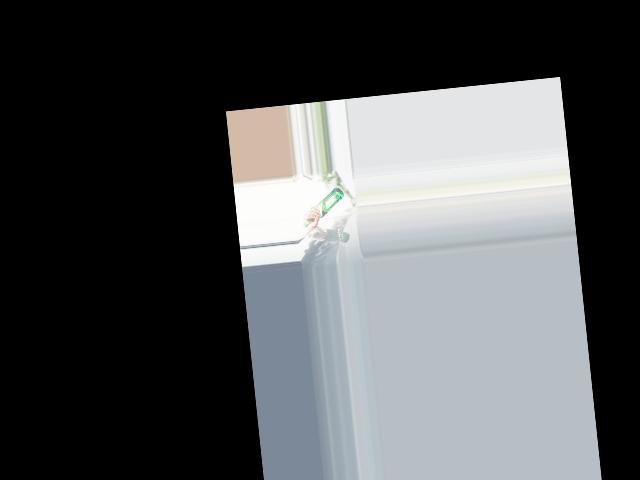beer: (300, 187, 347, 228)
